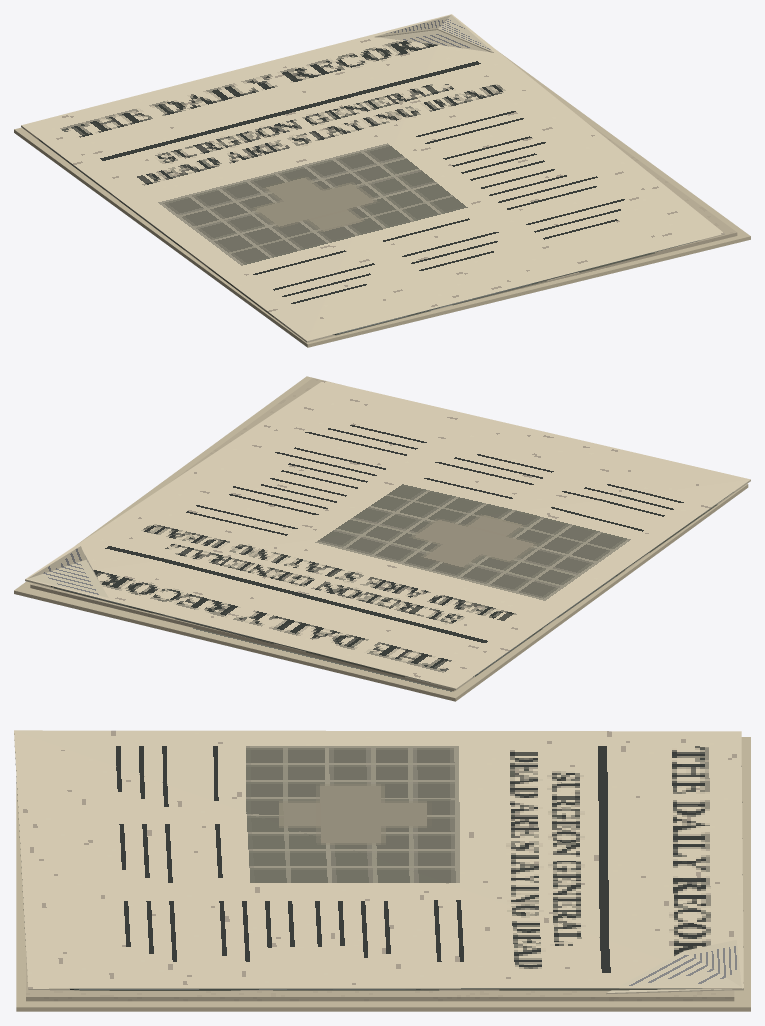
Rendered from weeks_old_newspaper.glb.
3 renders of one model, top to bottom at view 1: azimuth 30°, elevation 25°; view 2: azimuth 150°, elevation 25°; view 3: azimuth 270°, elevation 25°, orthographic. The views are drawn at different scales.
Parts seen in each view (by area): view 1: block_front page, block_lower fold, block_creased top corner, block_interior edges; view 2: block_front page, block_lower fold, block_interior edges, block_creased top corner; view 3: block_front page, block_lower fold, block_interior edges, block_creased top corner.
Part boxes in pixels (<box>): block_front page: <box>21,14,724,342</box>; block_lower fold: <box>14,50,750,347</box>; block_creased top corner: <box>374,15,493,52</box>; block_interior edges: <box>468,120,737,301</box>; block_front page: <box>25,380,750,690</box>; block_lower fold: <box>14,376,748,701</box>; block_interior edges: <box>30,378,454,691</box>; block_creased top corner: <box>27,546,108,597</box>; block_front page: <box>14,730,743,990</box>; block_lower fold: <box>16,737,750,1011</box>; block_interior edges: <box>26,952,734,1001</box>; block_creased top corner: <box>606,940,743,994</box>.
Bounding box in the file's own units: 0.271 × 0.0152 × 0.311.
1 material, 1 textured.
